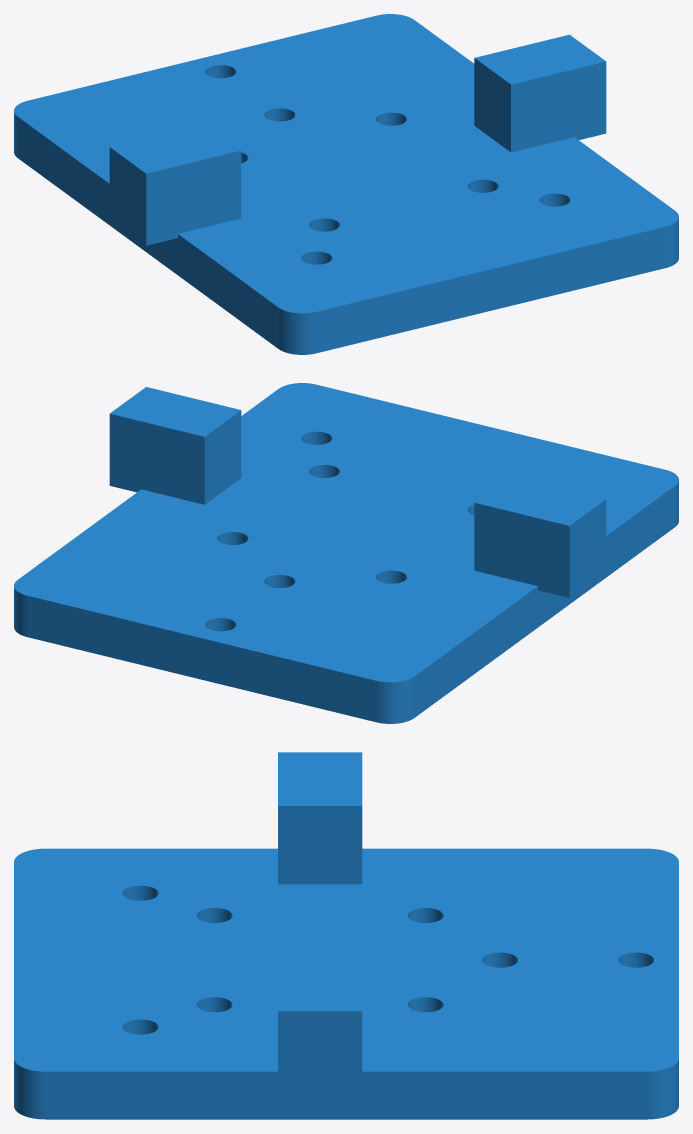
Rendered from eixo_placa_carro.glb.
The picture shows the model from 3 angles, top to bottom: view 1: azimuth 30°, elevation 25°; view 2: azimuth 150°, elevation 25°; view 3: azimuth 270°, elevation 25°; orthographic projection. The views are drawn at different scales.
Visible parts, largest first — view 1: eixo_placa_carro; view 2: eixo_placa_carro; view 3: eixo_placa_carro.
Boxes of the visible parts, left/top/right/bottom form: eixo_placa_carro: left=14, top=14, right=678, bottom=354; eixo_placa_carro: left=14, top=383, right=678, bottom=723; eixo_placa_carro: left=14, top=752, right=678, bottom=1119.
Bounding box in the file's own units: 58 × 13.18 × 63.
